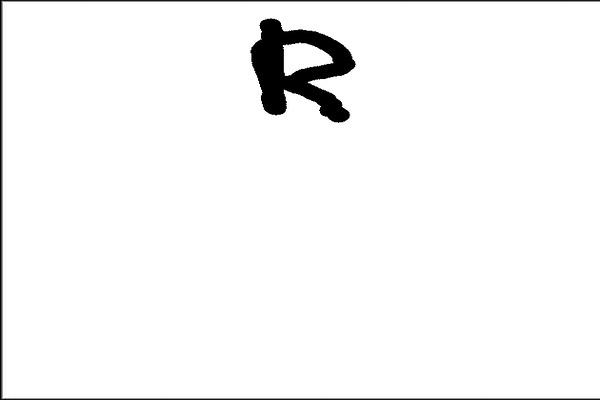R: (240, 12, 359, 129)
